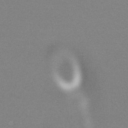normal: (74, 87, 107, 128)
